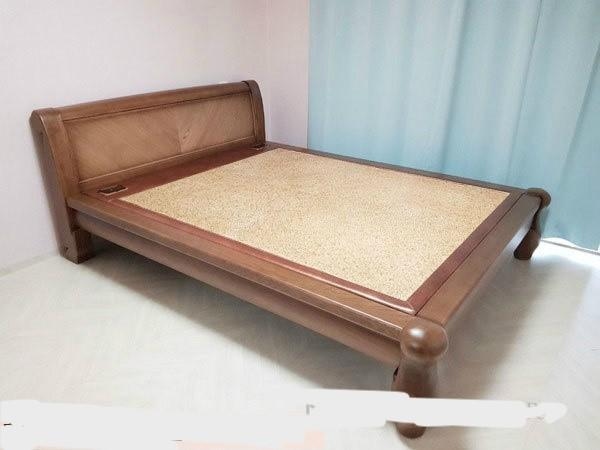Bed-Mattress: (23, 70, 584, 395)
